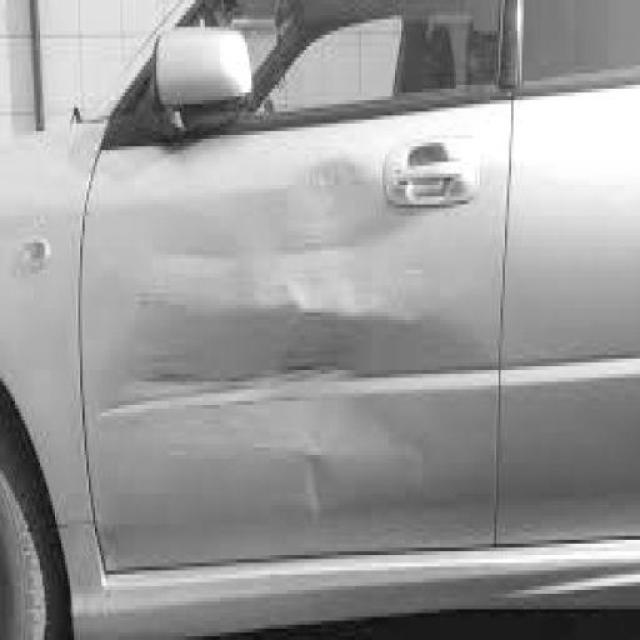car damage: (104, 154, 437, 517)
